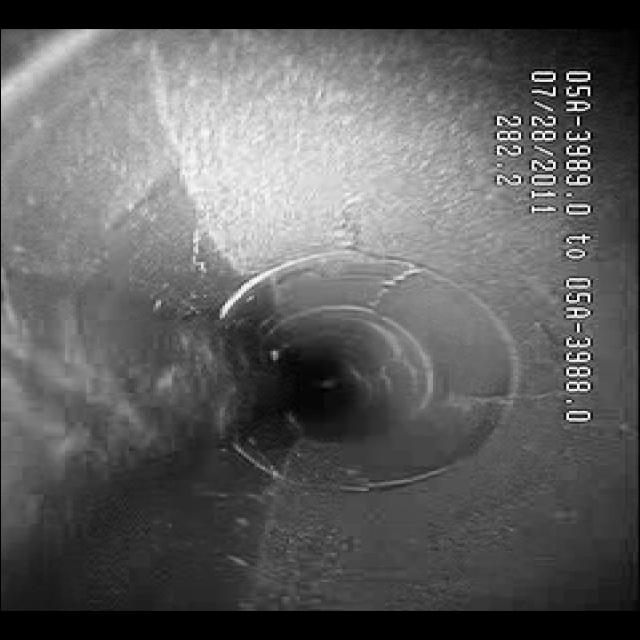Crack: (326, 190, 444, 303)
